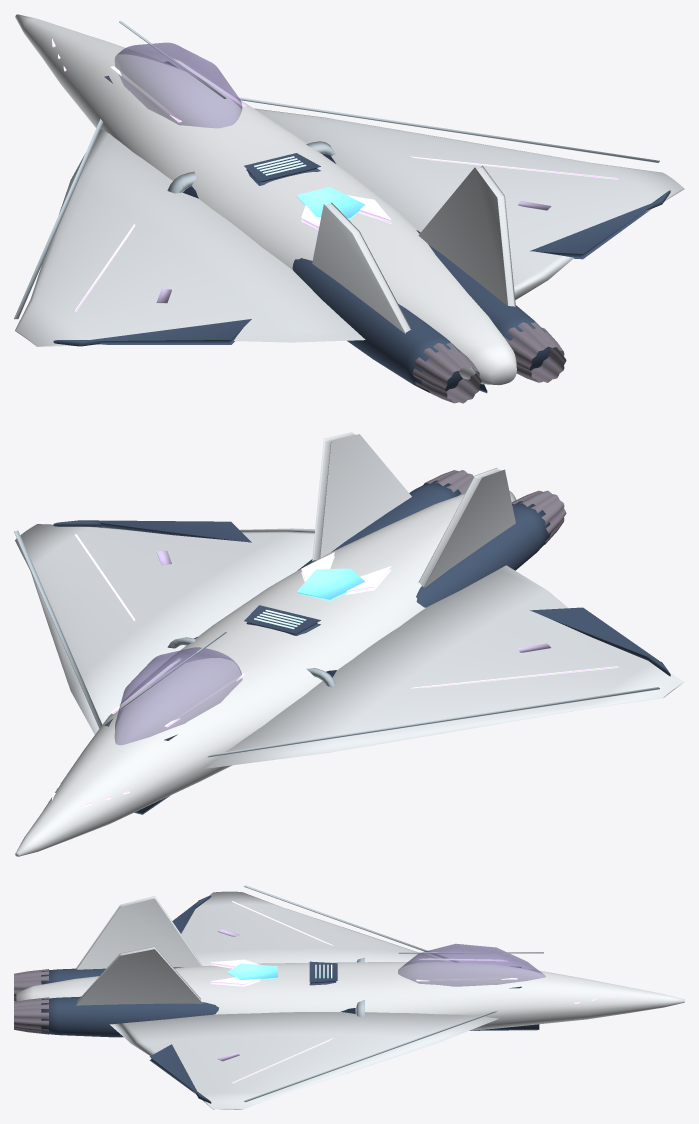
File: rieva-aeris-x.glb
3 views of the same model, one above another, from view 1: azimuth 30°, elevation 25°; view 2: azimuth 150°, elevation 25°; view 3: azimuth 270°, elevation 25° (orthographic). The views are drawn at different scales.
Parts seen in each view (by area): view 1: FUSELAGE_PRESSURE_BODY, CRANKED_WING_L, CRANKED_WING_R, CANOPY_LAMINATE, CANTED_FIN_R, ENGINE_CASING_L, CANTED_FIN_L, LOBED_NOZZLE_L, ELEVON_SURFACE_L, LOBED_NOZZLE_R, ENGINE_CASING_R, ELEVON_SURFACE_R (+4 smaller); view 2: FUSELAGE_PRESSURE_BODY, CRANKED_WING_L, CRANKED_WING_R, CANOPY_LAMINATE, CANTED_FIN_R, CANTED_FIN_L, ENGINE_CASING_L, ELEVON_SURFACE_R, ELEVON_SURFACE_L, ENGINE_CASING_R, LEADING_EDGE_WITNESS_L, CONTACT_DORSAL_APERTURE (+4 smaller); view 3: FUSELAGE_PRESSURE_BODY, CRANKED_WING_R, CRANKED_WING_L, CANTED_FIN_L, CANTED_FIN_R, CANOPY_LAMINATE, ENGINE_CASING_R, LOBED_NOZZLE_R, ELEVON_SURFACE_R, LEADING_EDGE_WITNESS_R, CONTACT_DORSAL_APERTURE, ENGINE_CASING_L (+4 smaller).
Part boxes in pixels (box(x1,y1,x2,y2)): FUSELAGE_PRESSURE_BODY: box(15, 14, 516, 385); CRANKED_WING_L: box(15, 129, 365, 346); CRANKED_WING_R: box(254, 108, 684, 299); CANOPY_LAMINATE: box(114, 42, 242, 128); CANTED_FIN_R: box(418, 165, 515, 307); ENGINE_CASING_L: box(292, 258, 462, 392); CANTED_FIN_L: box(312, 202, 411, 333); LOBED_NOZZLE_L: box(412, 343, 481, 403); ELEVON_SURFACE_L: box(53, 319, 251, 346); LOBED_NOZZLE_R: box(504, 322, 566, 382); ENGINE_CASING_R: box(416, 230, 550, 370); ELEVON_SURFACE_R: box(530, 190, 670, 259); FUSELAGE_PRESSURE_BODY: box(15, 491, 516, 856); CRANKED_WING_L: box(205, 565, 684, 768); CRANKED_WING_R: box(15, 524, 314, 734); CANOPY_LAMINATE: box(114, 647, 242, 745); CANTED_FIN_R: box(312, 432, 411, 560); CANTED_FIN_L: box(418, 468, 515, 587); ENGINE_CASING_L: box(416, 501, 550, 607); ELEVON_SURFACE_R: box(53, 520, 251, 542); ELEVON_SURFACE_L: box(530, 607, 670, 676); ENGINE_CASING_R: box(297, 480, 461, 570); LEADING_EDGE_WITNESS_L: box(207, 687, 659, 757); CONTACT_DORSAL_APERTURE: box(297, 568, 364, 601); FUSELAGE_PRESSURE_BODY: box(16, 962, 684, 1030); CRANKED_WING_R: box(110, 1012, 498, 1109); CRANKED_WING_L: box(181, 891, 444, 965); CANTED_FIN_L: box(76, 896, 202, 969); CANTED_FIN_R: box(76, 946, 202, 1005); CANOPY_LAMINATE: box(398, 943, 545, 986); ENGINE_CASING_R: box(41, 996, 218, 1037); LOBED_NOZZLE_R: box(14, 997, 48, 1034); ELEVON_SURFACE_R: box(149, 1044, 211, 1103); LEADING_EDGE_WITNESS_R: box(244, 1011, 496, 1102); CONTACT_DORSAL_APERTURE: box(227, 963, 277, 979); ENGINE_CASING_L: box(41, 967, 182, 984).
Size of the model in its own units: 11.04 by 2.53 by 14.42.
